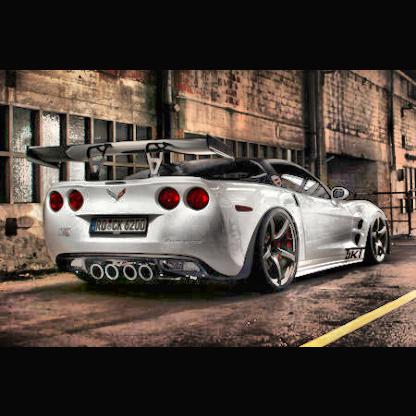Chevrolet Corvette ZR1 2012: (26, 136, 392, 295)
